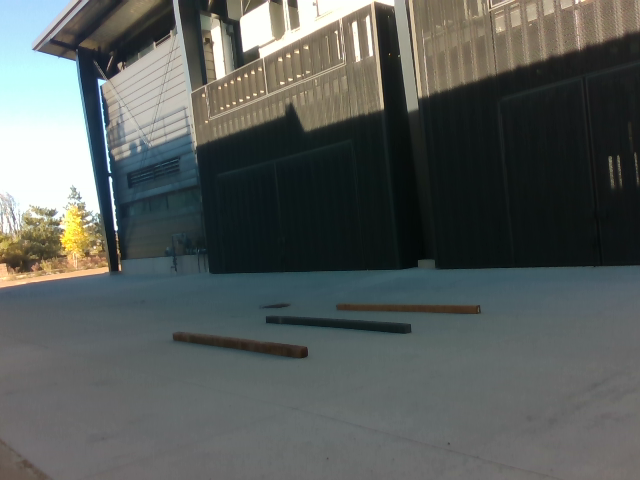Dunnage: (153, 294, 490, 367)
